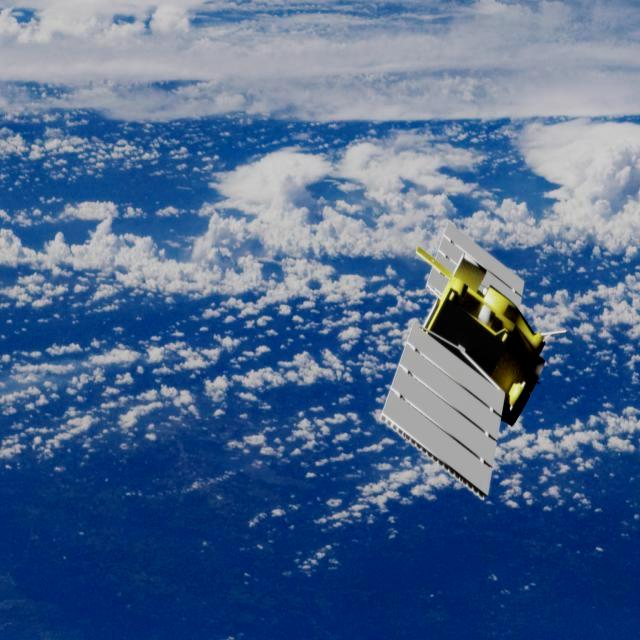medium_debris: (386, 198, 544, 522)
